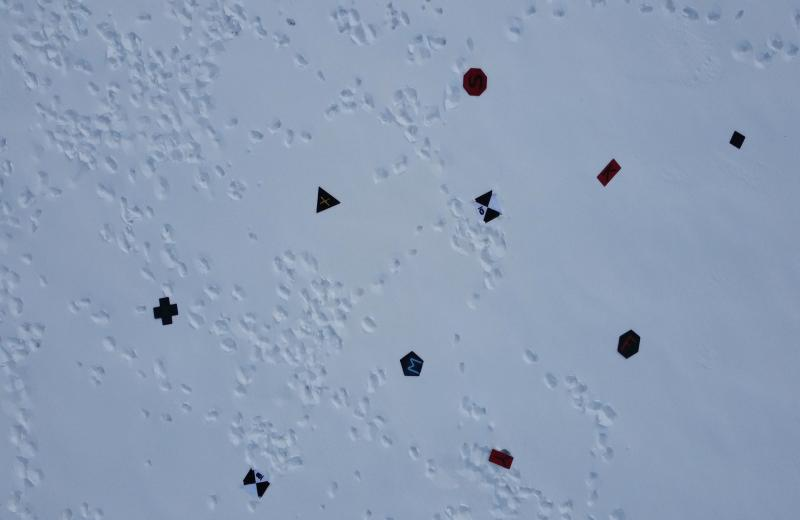Cross: (152, 294, 184, 328)
Hexagon: (618, 325, 649, 361)
Octagon: (460, 65, 491, 102)
Pentagon: (398, 348, 427, 382)
Rectangle: (594, 153, 626, 190), (485, 439, 516, 472)
Square: (724, 124, 748, 149)
Triangle: (310, 184, 343, 218)
